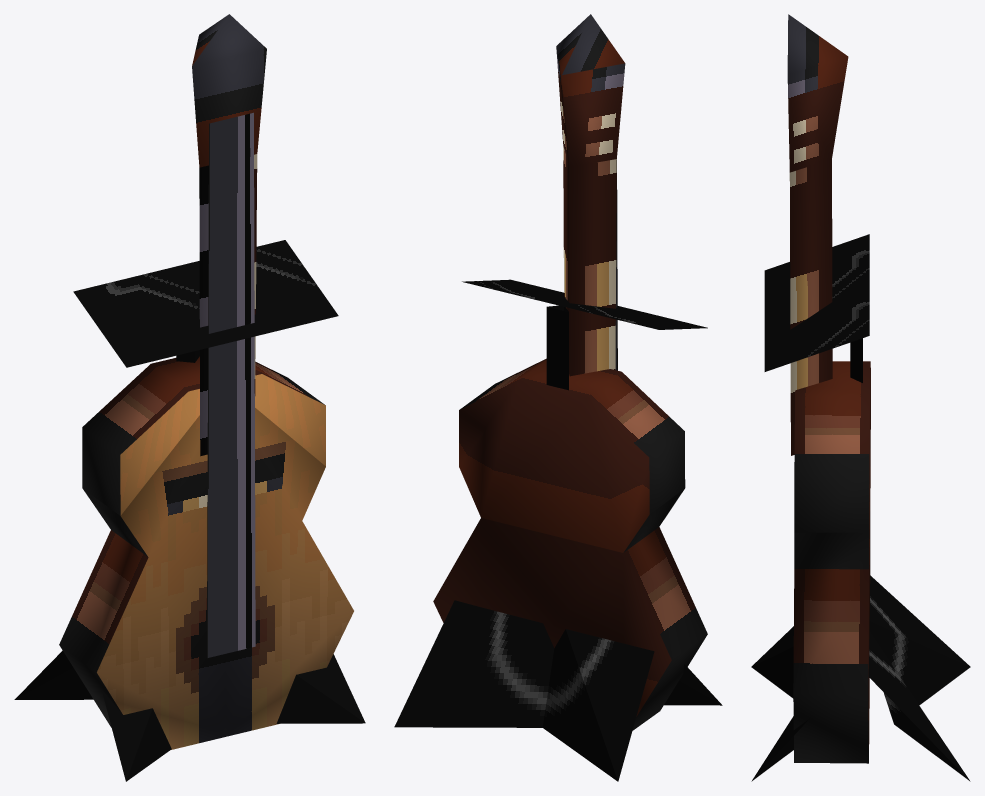
3 views of the same model, side by side, from view 1: azimuth 30°, elevation 25°; view 2: azimuth 150°, elevation 25°; view 3: azimuth 270°, elevation 25° (orthographic). The views are drawn at different scales.
Parts seen in each view (by area): view 1: 1345gakki04_c; view 2: 1345gakki04_c; view 3: 1345gakki04_c.
Part boxes in pixels (left/top/right/bottom): 1345gakki04_c: left=14, top=14, right=365, bottom=781; 1345gakki04_c: left=394, top=14, right=722, bottom=781; 1345gakki04_c: left=751, top=14, right=970, bottom=781.
Bounding box in the file's own units: 0.7266 × 1.96 × 0.5476.
2 materials, 2 textured.
